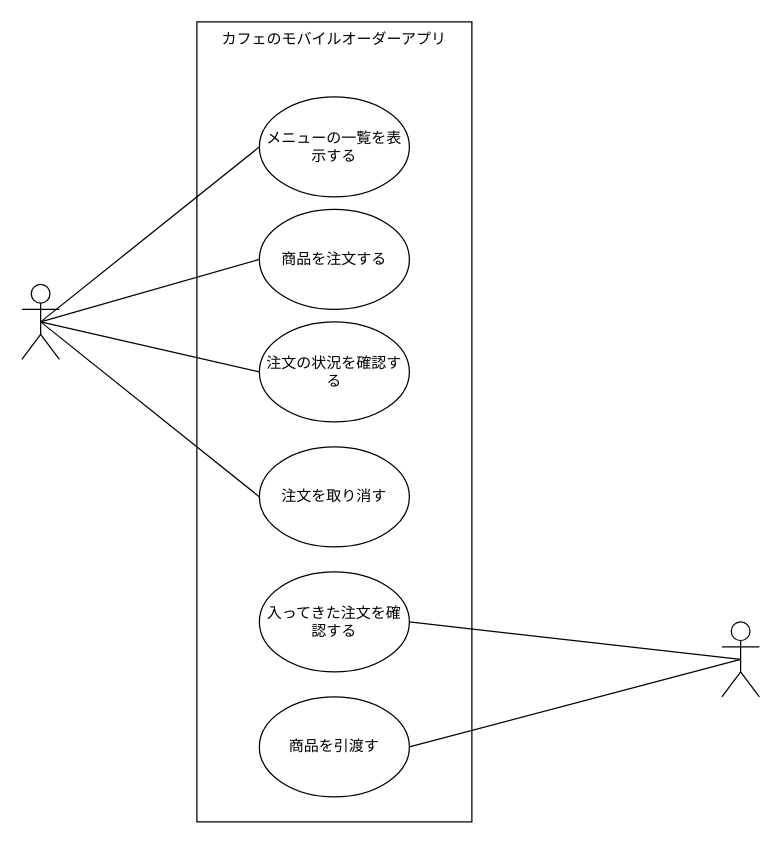
Some shapes in this 781 by 844 pixel diagram are drawn without their labels. The shapes that lost their labels are listed below. From the top down, each one's centre as x and y in pixels, then its label:
At point 40,321: "顧客".
At point 740,659: "店員".
